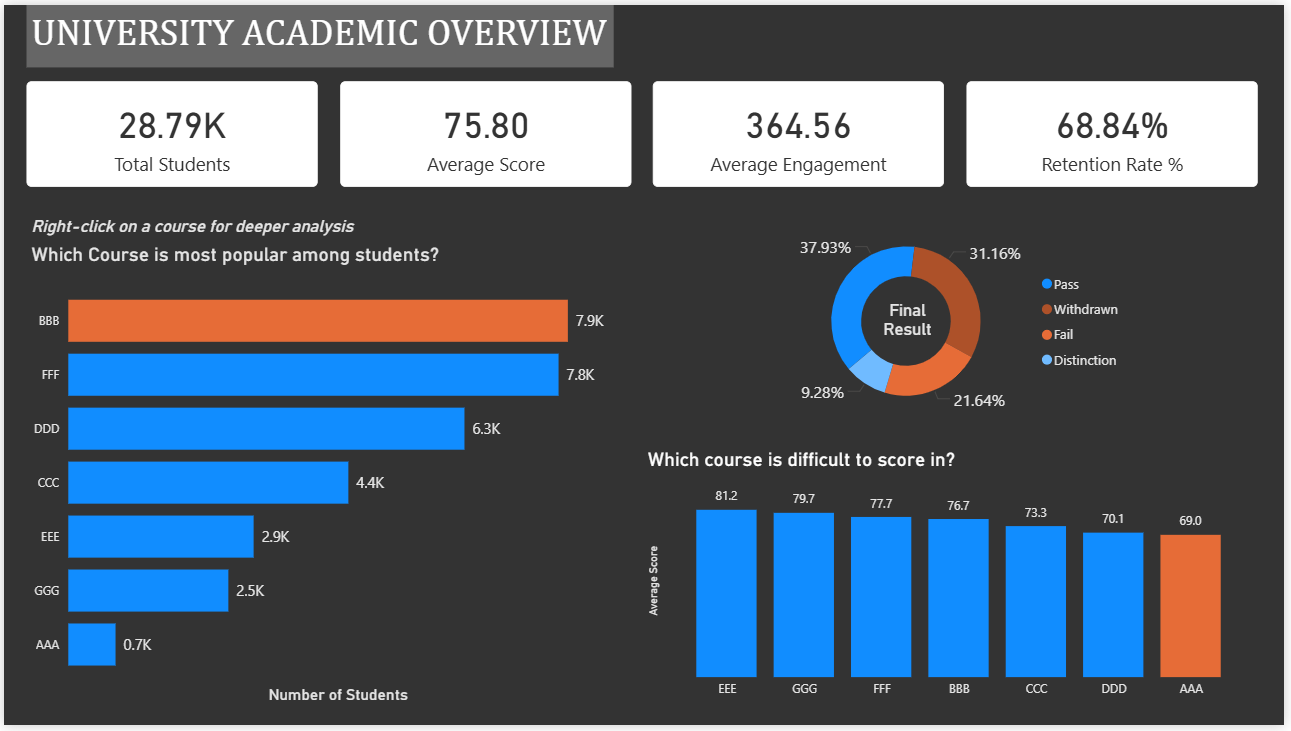

What the dashboard file says about the page in this screenshot:
{"tool":"powerbi","page":{"name":"Overview","canvas":[1280,720],"ordinal":0},"visuals":[{"type":"textbox","box":[22.5,0,587.5,62.5],"z":0},{"type":"card","fields":{"Values":["Count(public student_all_details.id_student)"]},"box":[22.9,75.7,291.4,105.7],"z":0,"group":"g1"},{"type":"group","id":"g1","title":"Group 1","box":[22.9,75.7,1231.4,105.7],"z":1000},{"type":"card","fields":{"Values":["Avg(public student_score_details.score)"]},"box":[336.2,75.7,291.4,105.7],"z":1000,"group":"g1"},{"type":"card","fields":{"Values":["Avg(public student_all_details.site_count)"]},"box":[649.6,75.7,291.4,105.7],"z":2000,"group":"g1"},{"type":"barChart","title":"Which Course is most popular among students?","fields":{"Category":["public student_all_details.code_module"],"Y":["CountNonNull(public student_all_details.id_student)"]},"box":[22.9,238.6,587.1,464.3],"z":2000},{"type":"card","fields":{"Values":["public student_all_details.Retention Rate %"]},"box":[962.9,75.7,291.4,105.7],"z":3000,"group":"g1"},{"type":"columnChart","title":"Which course is difficult to score in?","fields":{"Category":["public student_all_details.code_module"],"Y":["Avg(public student_score_details.score)"]},"box":[638.6,444.3,615.7,258.6],"z":3000},{"type":"donutChart","fields":{"Category":["public student_all_details.final_result"],"Y":["CountNonNull(public student_all_details.id_student)"]},"box":[762.5,206.2,366.2,220],"z":4000},{"type":"textbox","box":[866.3,290.5,74.7,51.6],"z":5000},{"type":"textbox","box":[22.9,205.7,587.1,32.9],"z":10000}]}

Visuals, with their boxes in screenshot pixels (x1, y1, x2, y2), scaled from the page's 1280x720 canvas onto the 1291x731 screenshot:
textbox: <box>23,0,615,63</box>
card - Count(public student_all_details.id_student): <box>23,77,317,184</box>
"Group 1" group: <box>23,77,1265,184</box>
card - Avg(public student_score_details.score): <box>339,77,633,184</box>
card - Avg(public student_all_details.site_count): <box>655,77,949,184</box>
"Which Course is most popular among students?" barChart: <box>23,242,615,714</box>
card - public student_all_details.Retention Rate %: <box>971,77,1265,184</box>
"Which course is difficult to score in?" columnChart: <box>644,451,1265,714</box>
donutChart - public student_all_details.final_result x CountNonNull(public student_all_details.id_student): <box>769,209,1138,433</box>
textbox: <box>874,295,949,347</box>
textbox: <box>23,209,615,242</box>
